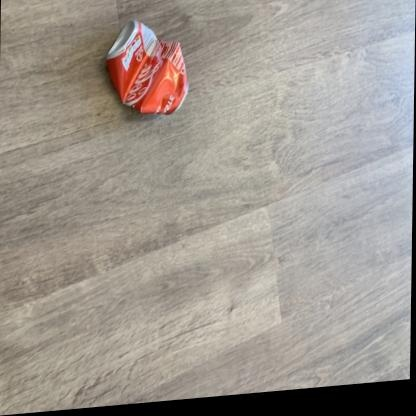trash: (106, 20, 188, 113)
